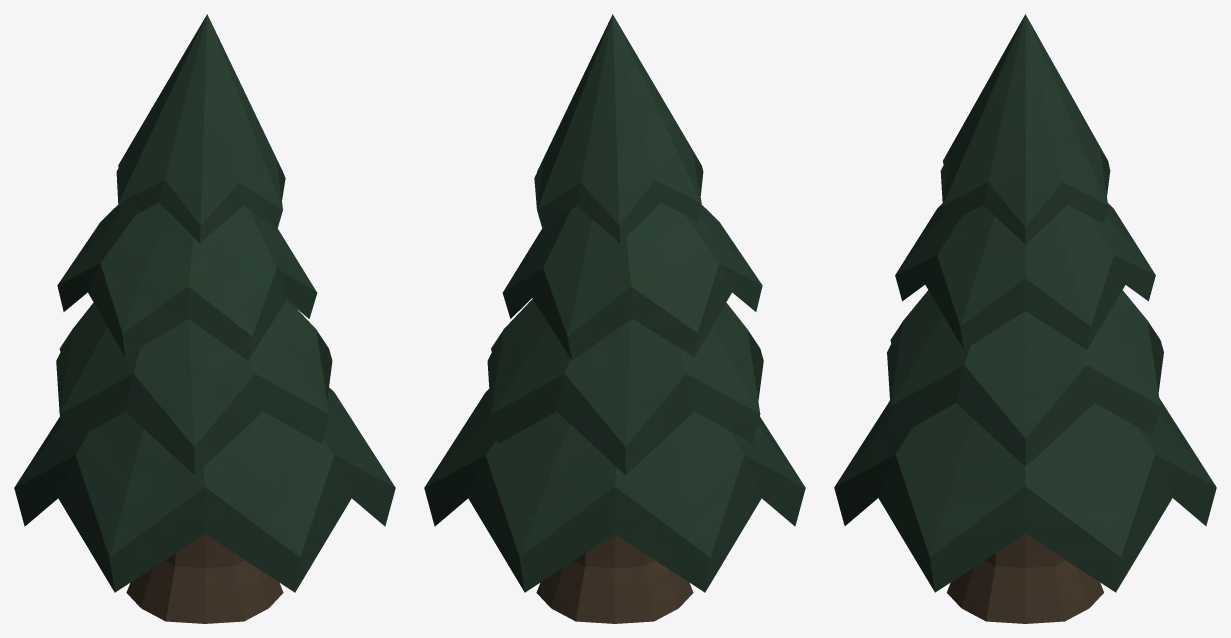
The model's file is Tree_pine_B.obj.
3 renders of one model, left to right at view 1: azimuth 30°, elevation 25°; view 2: azimuth 150°, elevation 25°; view 3: azimuth 270°, elevation 25°, orthographic.
Parts seen in each view (by area): view 1: Tree_pine_B; view 2: Tree_pine_B; view 3: Tree_pine_B.
Part boxes in pixels (box(x1,y1,x2,y2)): Tree_pine_B: box(14, 14, 395, 623); Tree_pine_B: box(424, 14, 805, 623); Tree_pine_B: box(834, 14, 1216, 623).
Size of the model in its own units: 4.28 by 8.06 by 4.82.
